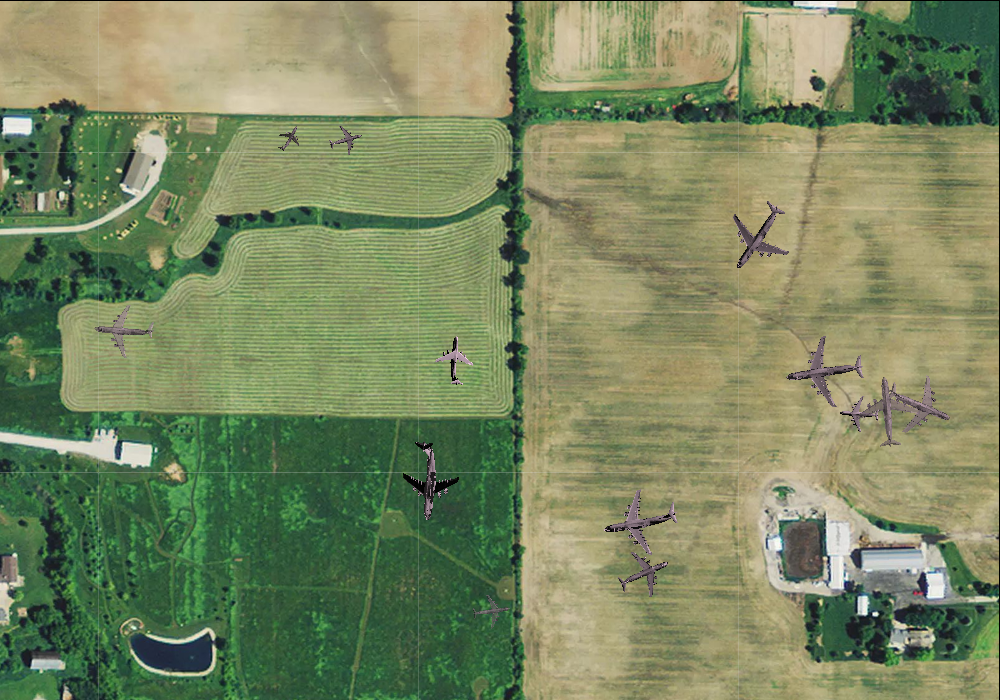plane: (707, 185, 808, 287), (875, 362, 963, 447), (597, 479, 684, 563), (781, 330, 869, 413), (388, 438, 464, 523), (852, 374, 923, 450), (609, 540, 678, 608), (91, 298, 156, 361), (431, 334, 480, 387), (470, 591, 512, 631), (838, 394, 880, 433), (325, 120, 366, 159), (270, 119, 306, 156)
